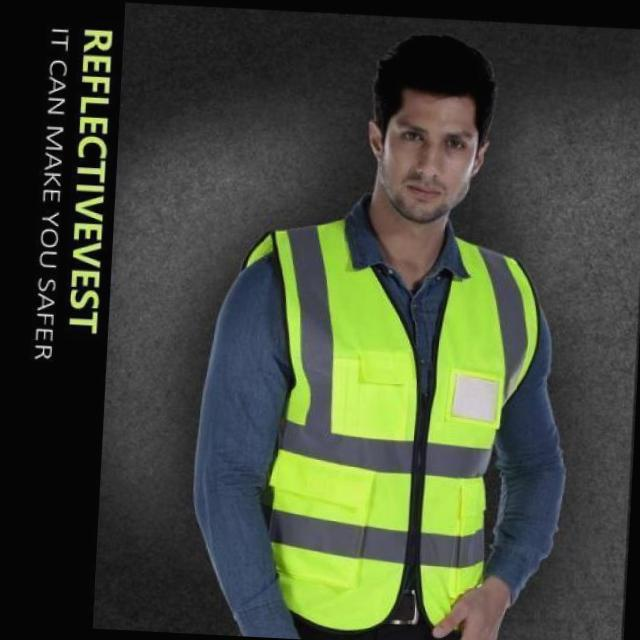vest: (270, 251, 532, 622)
